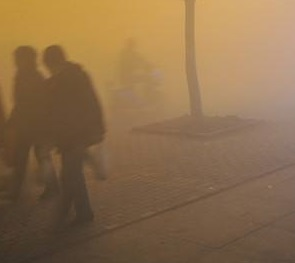person: (40, 44, 105, 221), (8, 41, 60, 201), (117, 37, 159, 96)
